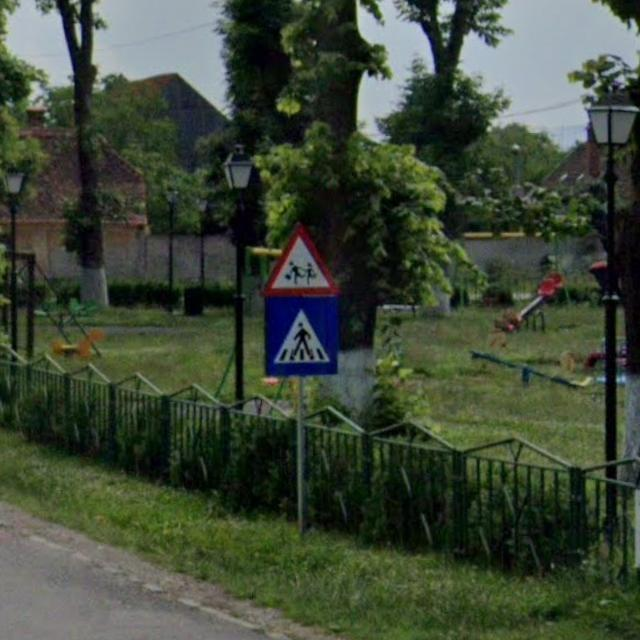info_crosswalk: (264, 297, 339, 376)
